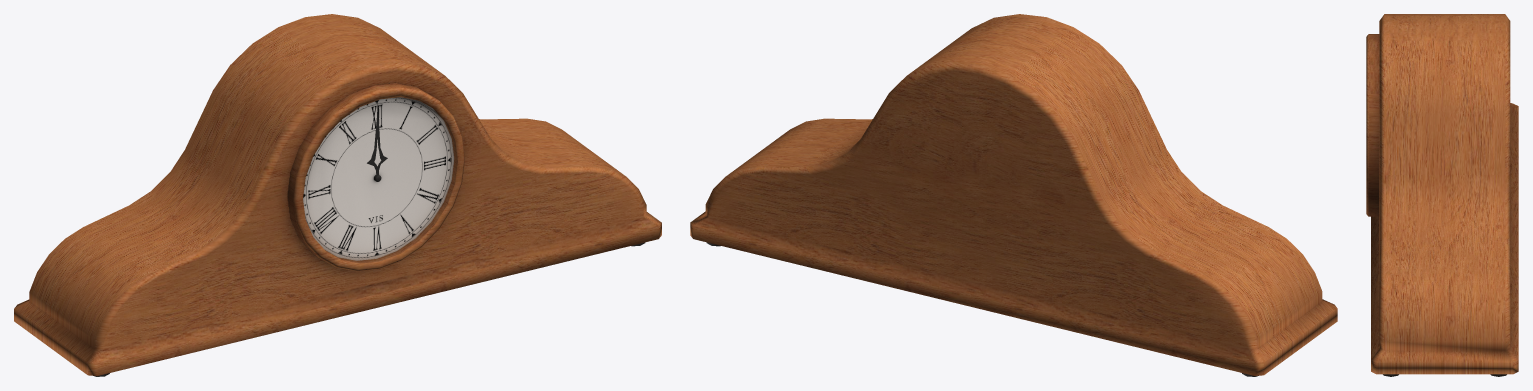
The model's file is tischuhr_01.fbx.
3 views of the same model, side by side, from view 1: azimuth 30°, elevation 25°; view 2: azimuth 150°, elevation 25°; view 3: azimuth 270°, elevation 25° (orthographic). The views are drawn at different scales.
Visible parts, largest first — view 1: tischuhr_01; view 2: tischuhr_01; view 3: tischuhr_01.
Part boxes in pixels (left/top/right/bottom): tischuhr_01: left=14, top=14, right=661, bottom=376; tischuhr_01: left=690, top=14, right=1337, bottom=376; tischuhr_01: left=1366, top=14, right=1518, bottom=376.
Size of the model in its own units: 108 by 44 by 26.85.
